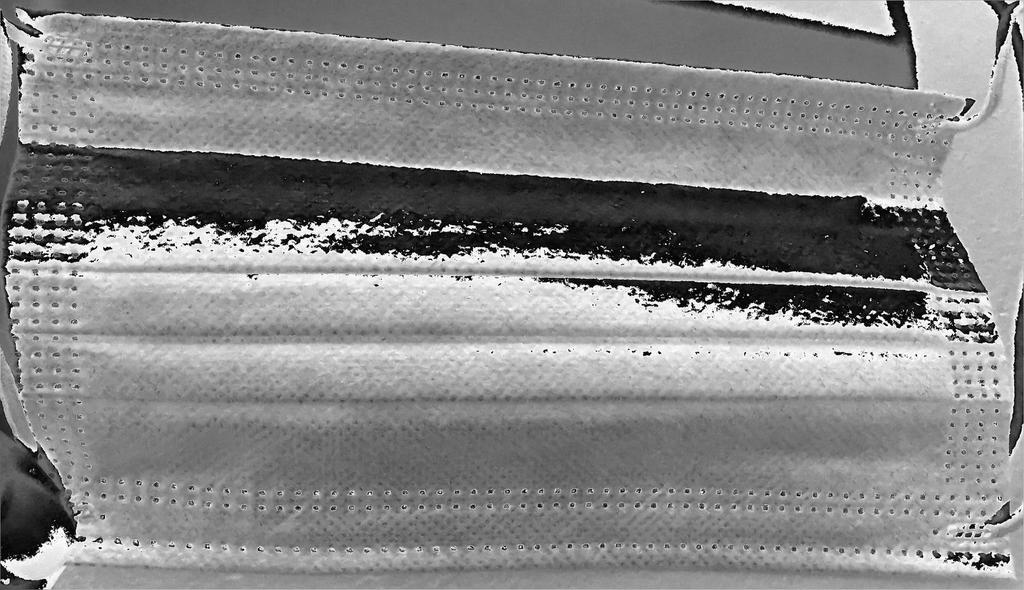High GSM: (87, 141, 930, 496)
